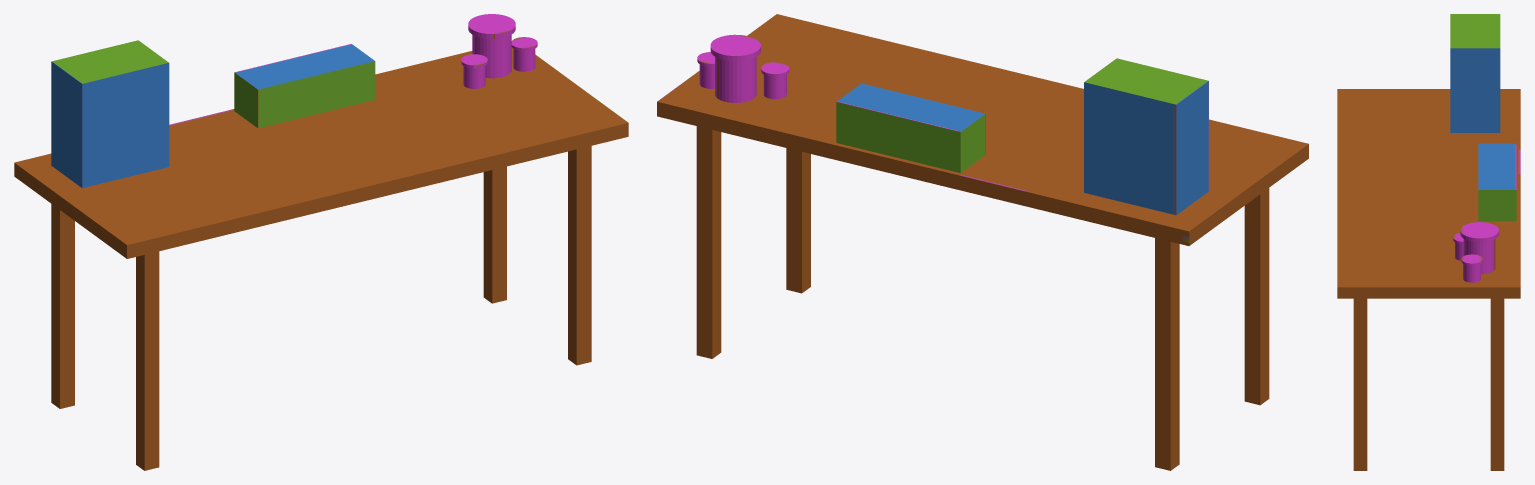
The model's file is MesaCochera.obj.
3 renders of one model, left to right at view 1: azimuth 30°, elevation 25°; view 2: azimuth 150°, elevation 25°; view 3: azimuth 270°, elevation 25°, orthographic. The views are drawn at different scales.
Visible parts, largest first — view 1: Cube.003_Cube.040; view 2: Cube.003_Cube.040; view 3: Cube.003_Cube.040.
Boxes of the visible parts, x1,y1,x2,y2 form: Cube.003_Cube.040: (14, 14, 628, 470); Cube.003_Cube.040: (657, 14, 1308, 470); Cube.003_Cube.040: (1337, 14, 1520, 470).
Size of the model in its own units: 24.76 by 16.23 by 9.65.
Materials: 1 (1 with a texture image).
